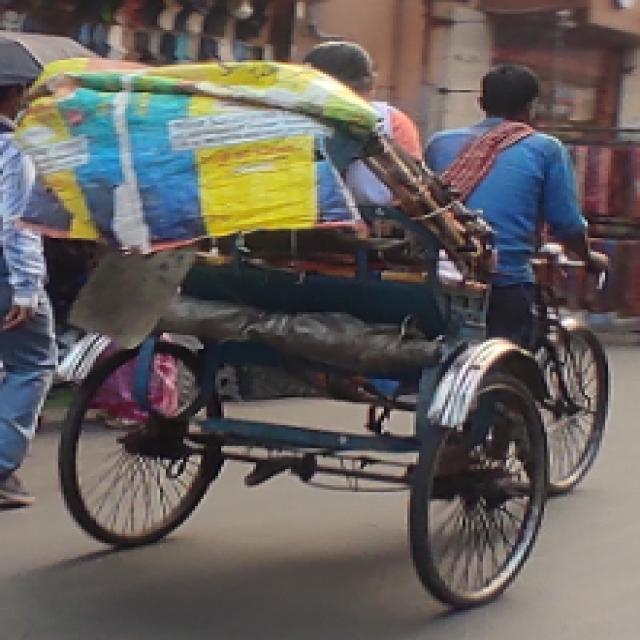rickshaw: (14, 48, 620, 610)
